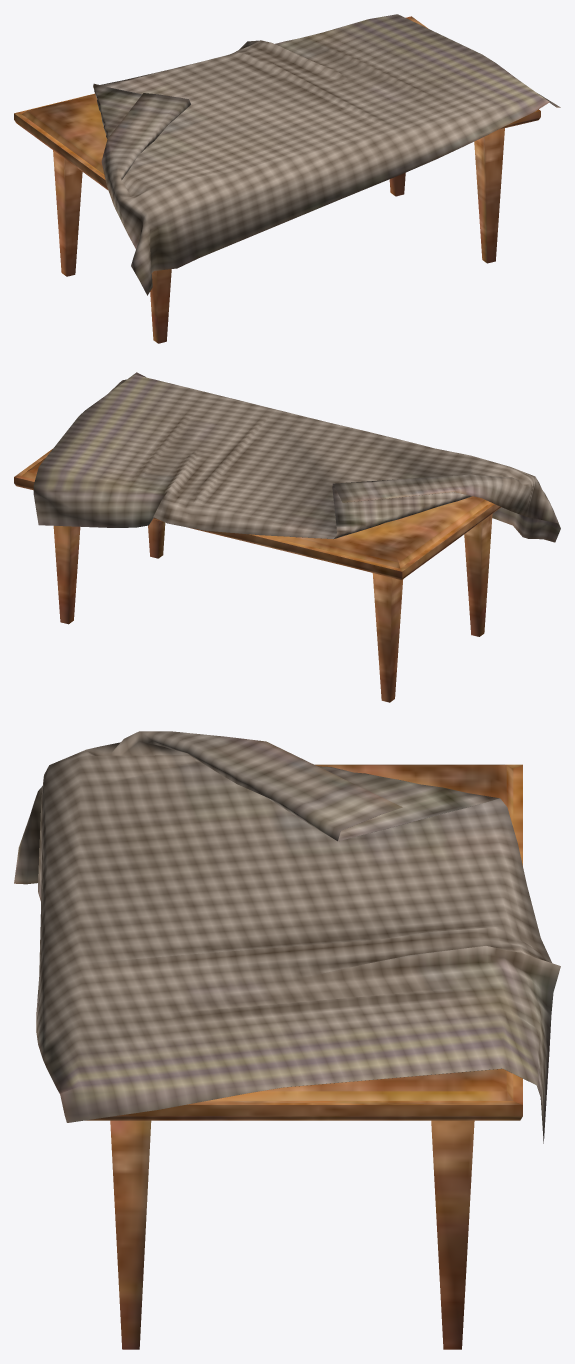
The model's file is table-dining-modern.lite.9e7fc882.glb.
3 views of the same model, one above another, from view 1: azimuth 30°, elevation 25°; view 2: azimuth 150°, elevation 25°; view 3: azimuth 270°, elevation 25° (orthographic). The views are drawn at different scales.
Parts seen in each view (by area): view 1: model; view 2: model; view 3: model.
Part boxes in pixels (x1,y1,x2,y2): model: [14, 14, 560, 343]; model: [14, 372, 560, 702]; model: [14, 731, 560, 1349].
Size of the model in its own units: 2.26 by 0.877 by 1.39.
Materials: 1 (1 with a texture image).
